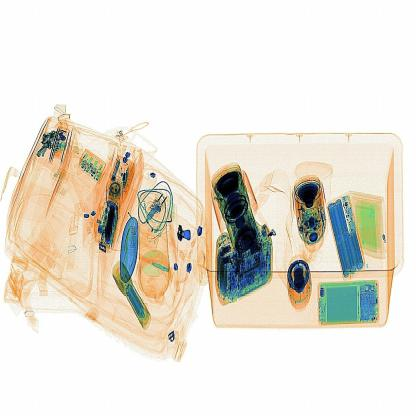wrench: (169, 219, 198, 249)
